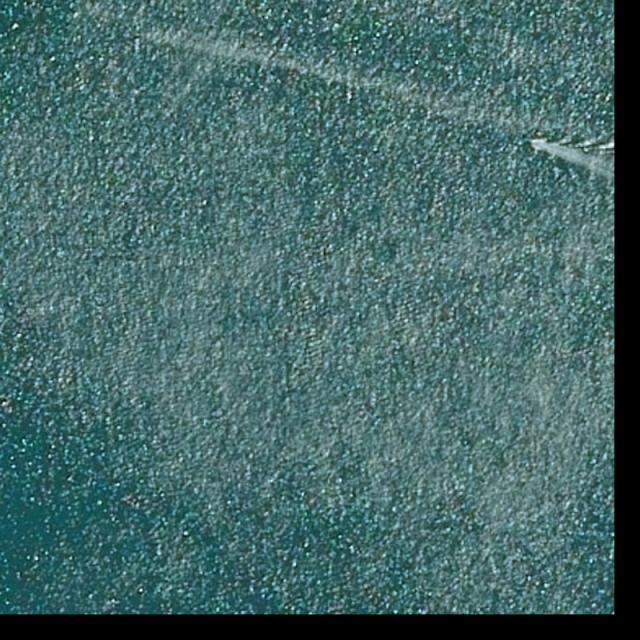ship: (525, 137, 539, 146)
